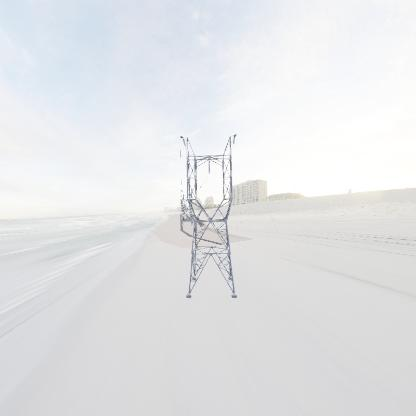tower: (176, 132, 241, 306)
